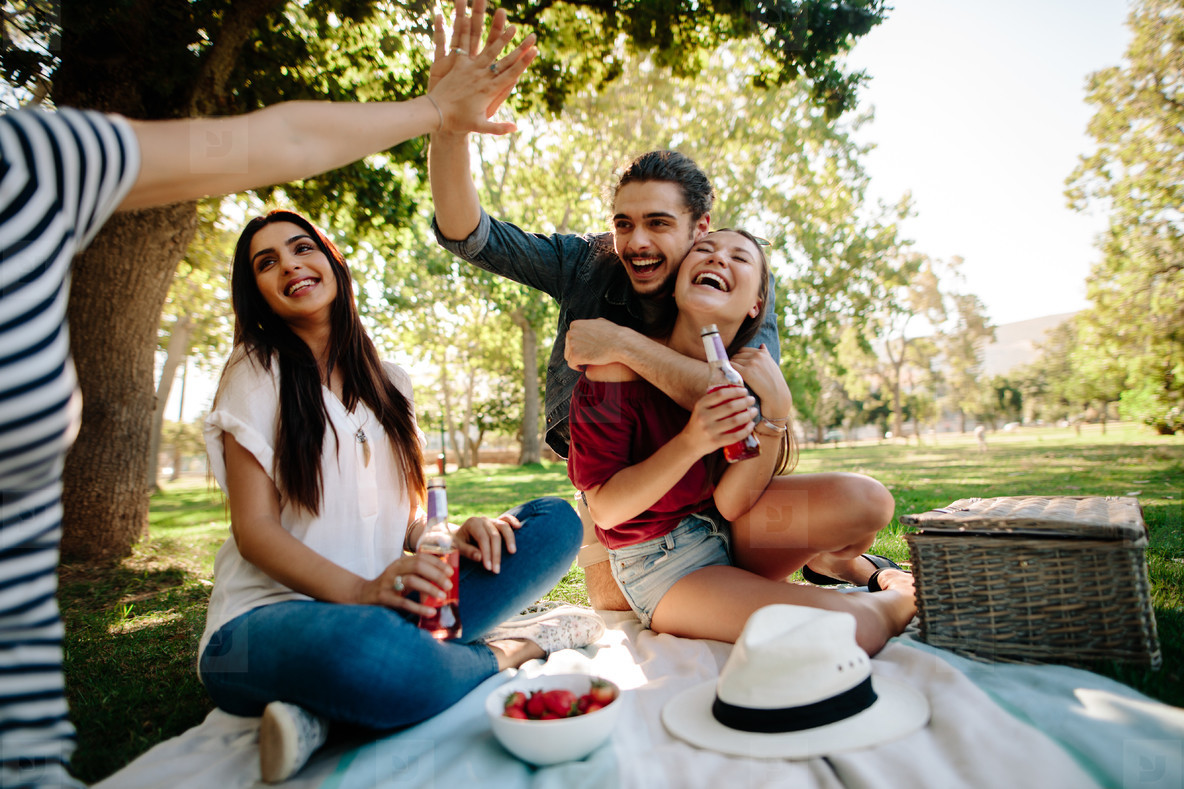Person: (194, 208, 585, 789), (562, 227, 920, 661)
